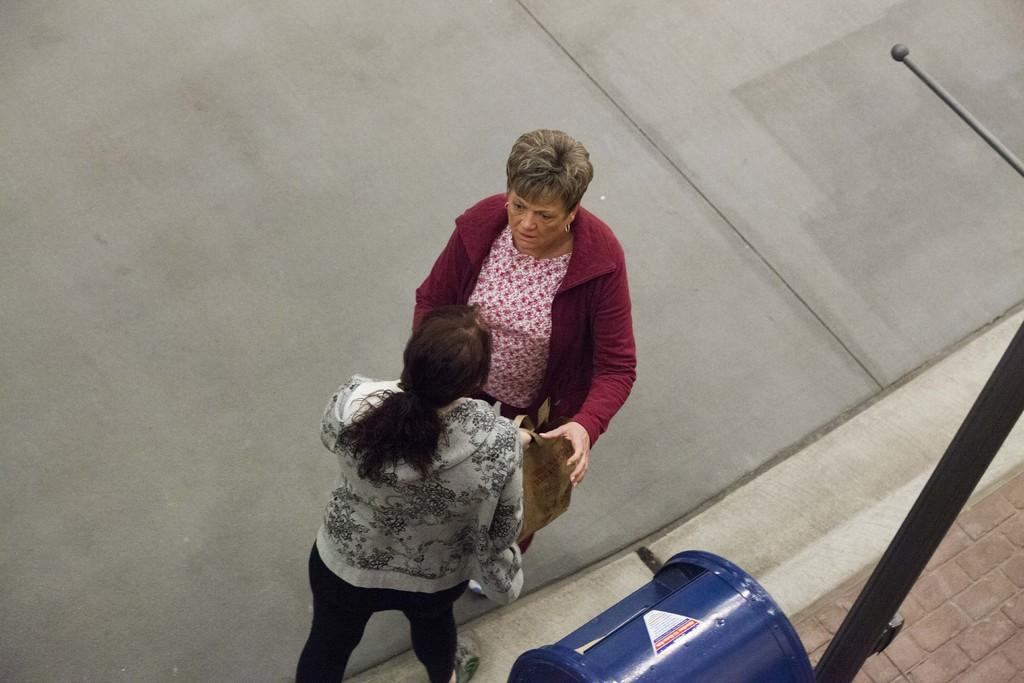Luggage-and-bags: (516, 414, 579, 545)
